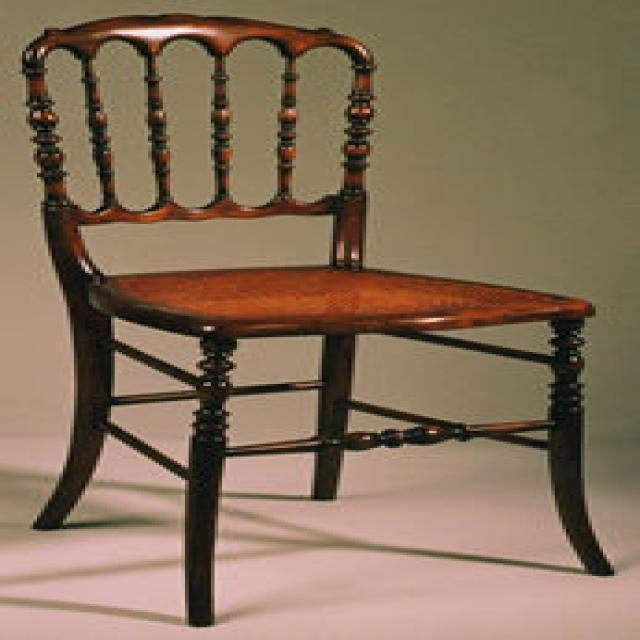chair: (19, 11, 614, 627)
